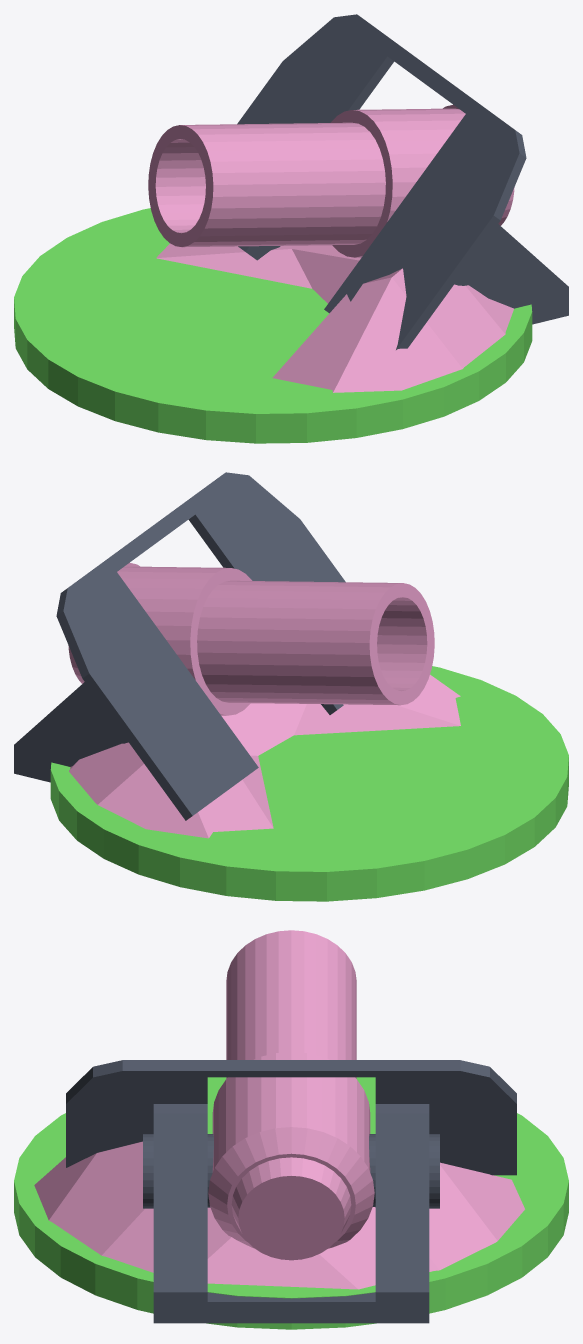
Rendered from turret4_negativex.fbx.
3 views of the same model, one above another, from view 1: azimuth 30°, elevation 25°; view 2: azimuth 150°, elevation 25°; view 3: azimuth 270°, elevation 25° (orthographic). The views are drawn at different scales.
Parts seen in each view (by area): view 1: turret4base, turret4head; view 2: turret4base, turret4head; view 3: turret4head, turret4base.
Boxes of the visible parts, x1,y1,x2,y2 form: turret4base: (14,208,532,443); turret4head: (148,14,568,349); turret4base: (50,666,568,901); turret4head: (14,472,434,820); turret4head: (66,930,516,1323); turret4base: (14,1077,568,1329).
Size of the model in its own units: 1.01 by 0.4772 by 1.
